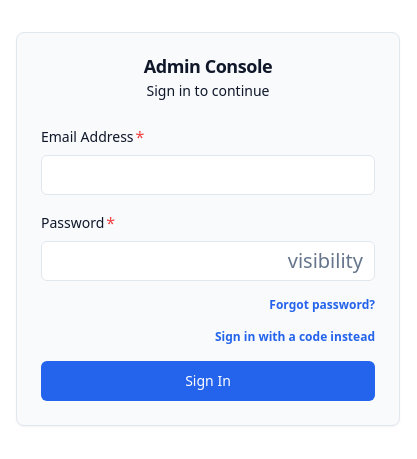
Scenario: LoginForm › renders an unrecognised error string verbatim
Type "a@b.io" into the field labelled "Email Address". click: coordinates (208, 175)
box: [41, 155, 375, 195]
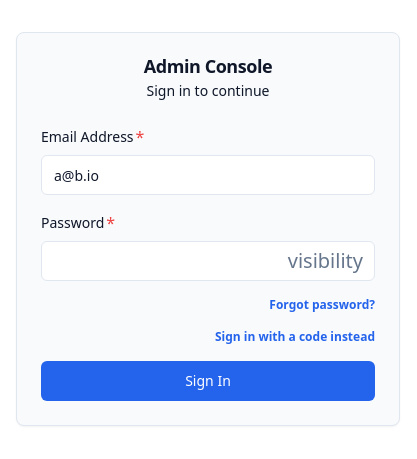
Type "pw" into the password field labelled "Password". click: coordinates (208, 261)
box: [41, 241, 375, 281]
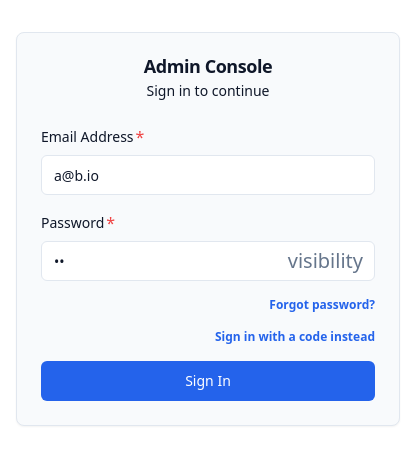
Submit the form, box [41, 125, 375, 401]
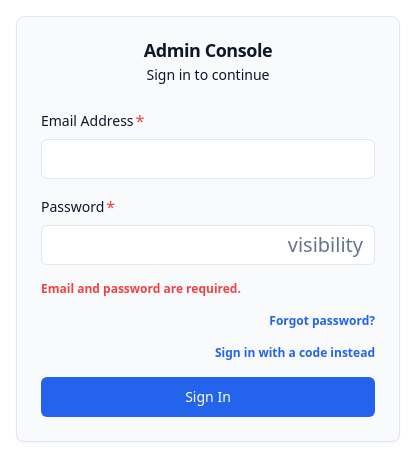
Expected: the text with test id "login-error" reads "Email and password are required.", [41, 280, 241, 297]
